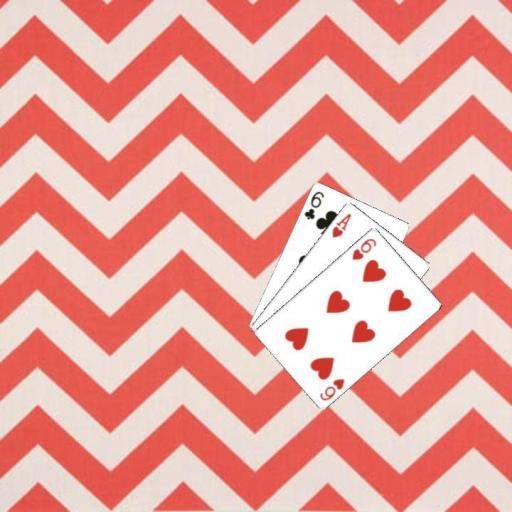6C: (301, 188, 326, 220)
6H: (317, 375, 346, 402), (349, 235, 378, 261)
AH: (329, 210, 353, 239)
